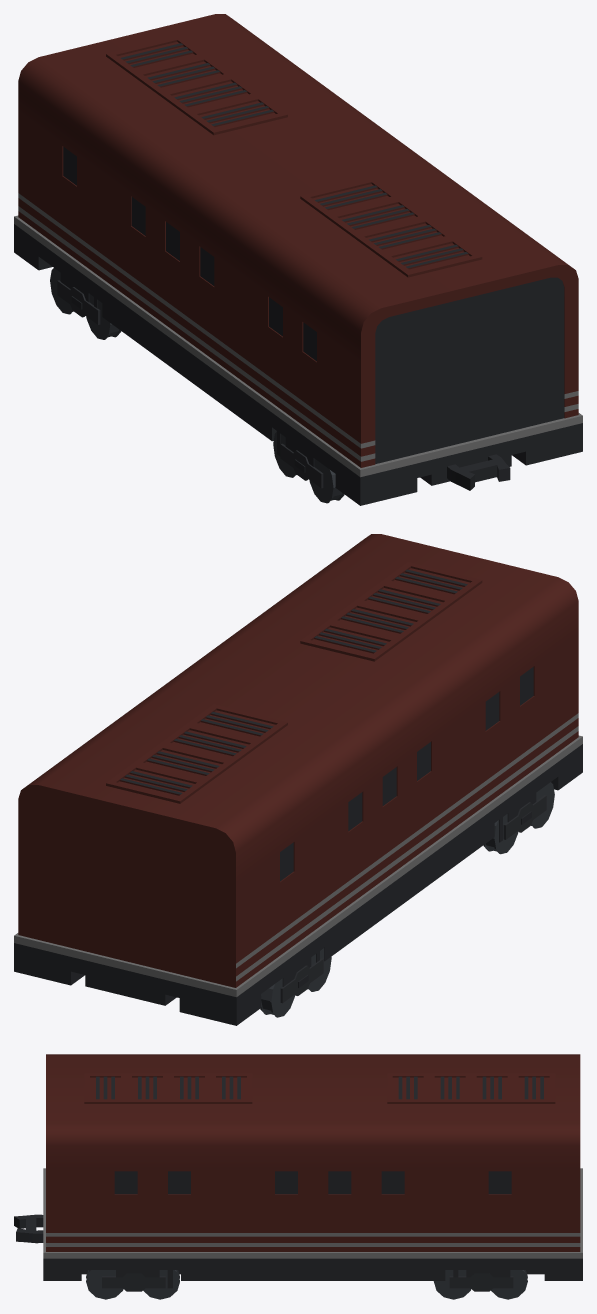
File: Wagon_8.fbx
3 renders of one model, top to bottom at view 1: azimuth 30°, elevation 25°; view 2: azimuth 150°, elevation 25°; view 3: azimuth 270°, elevation 25°, orthographic. The views are drawn at different scales.
Parts seen in each view (by area): view 1: Wagon_8; view 2: Wagon_8; view 3: Wagon_8.
Part boxes in pixels (x1,y1,x2,y2): Wagon_8: [14, 14, 582, 505]; Wagon_8: [14, 534, 582, 1025]; Wagon_8: [14, 1054, 582, 1299].
Size of the model in its own units: 227 by 211 by 637.
